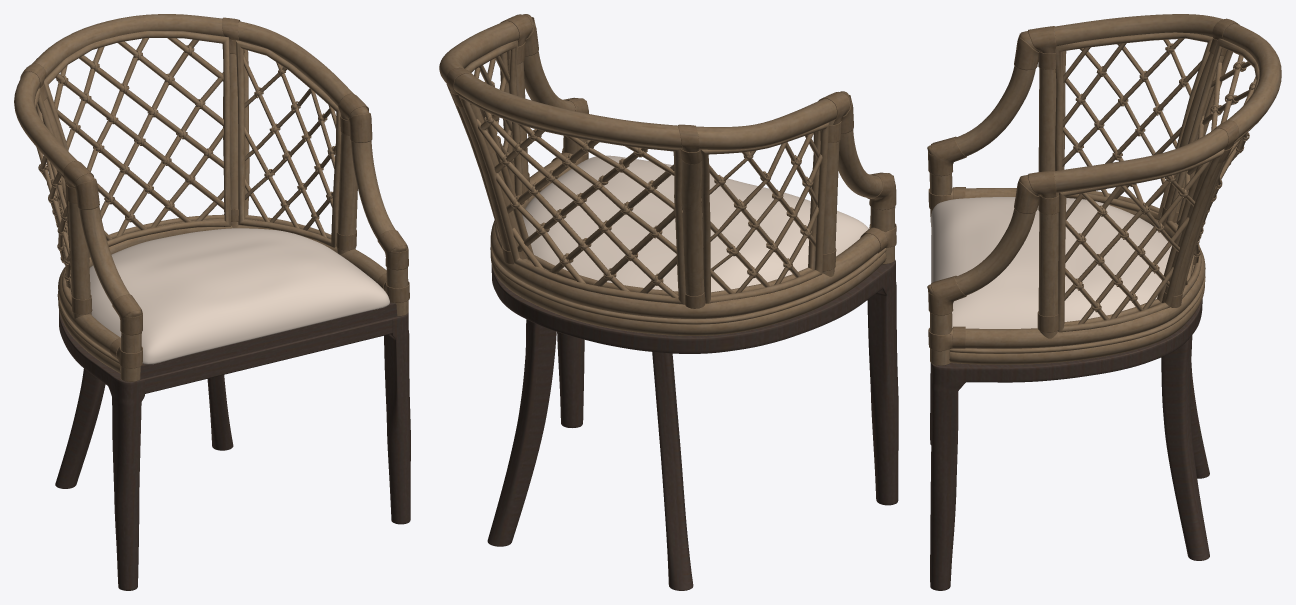
The model's file is chair_B00UAA28XW_safavieh_brownWoodCreamFabric.glb.
3 renders of one model, left to right at view 1: azimuth 30°, elevation 25°; view 2: azimuth 150°, elevation 25°; view 3: azimuth 270°, elevation 25°, orthographic. The views are drawn at different scales.
Visible parts, largest first — view 1: ASSET; view 2: ASSET; view 3: ASSET.
Part boxes in pixels (x1,y1,x2,y2): ASSET: [14, 14, 410, 590]; ASSET: [439, 14, 898, 590]; ASSET: [927, 14, 1281, 590].
Bounding box in the file's own units: 0.5842 × 0.795 × 0.5664.
Materials: 1 (1 with a texture image).
